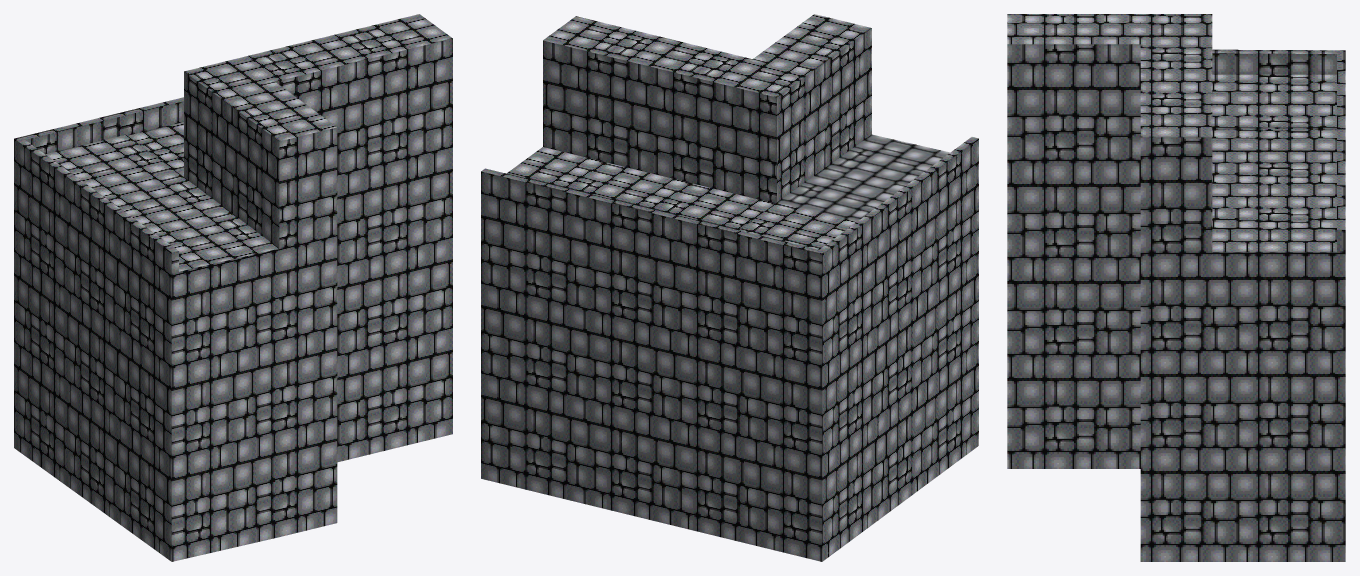
The model's file is citywallinvcorner.fbx.
3 renders of one model, left to right at view 1: azimuth 30°, elevation 25°; view 2: azimuth 150°, elevation 25°; view 3: azimuth 270°, elevation 25°, orthographic. The views are drawn at different scales.
Visible parts, largest first — view 1: CityWall.004; view 2: CityWall.004; view 3: CityWall.004.
Part boxes in pixels (<box>): CityWall.004: <box>14,14,452,561</box>; CityWall.004: <box>481,14,978,561</box>; CityWall.004: <box>1007,14,1345,561</box>.
Bounding box in the file's own units: 3944 × 4344 × 3139.
